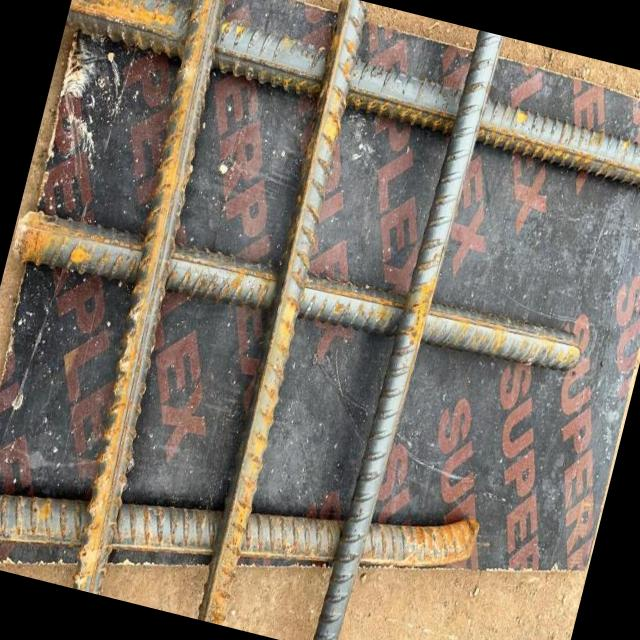ribbed bar: (47, 0, 256, 594), (7, 192, 587, 400), (185, 0, 377, 624), (311, 26, 502, 640), (0, 400, 479, 640), (60, 0, 640, 198)
